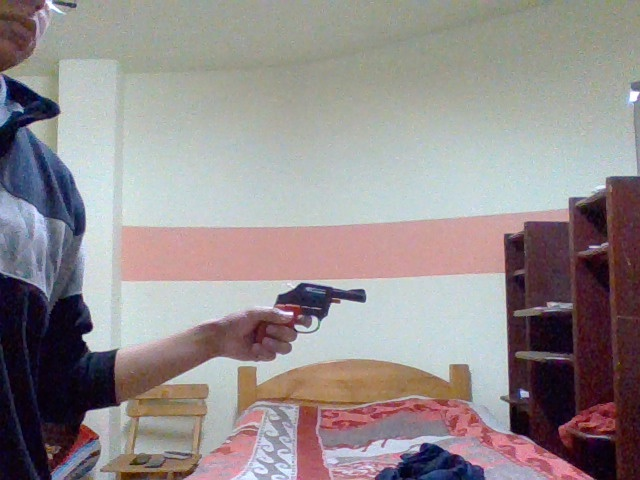pistola: (253, 276, 387, 361)
